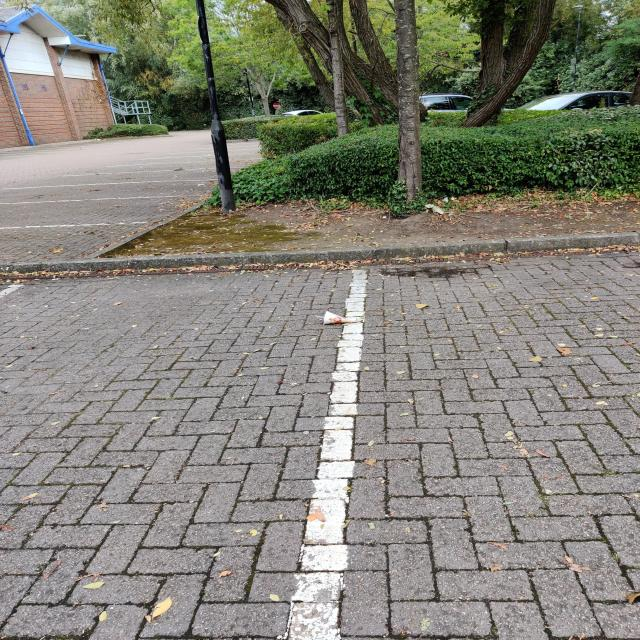litter: (324, 310, 357, 324), (315, 315, 324, 318)
